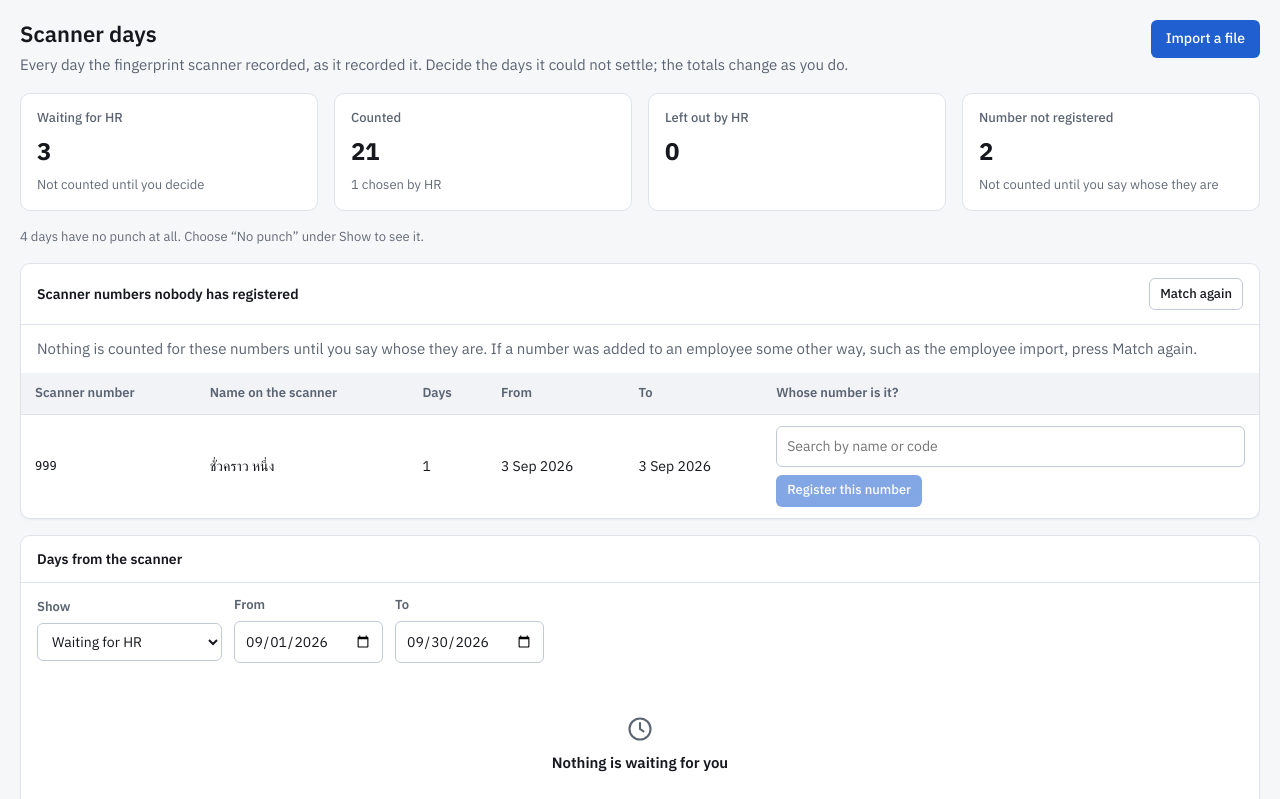
Test: Reviewing the scanner’s days (CW-061) › a refusal from the server, in the language of the screen (CW-096) › keeps the English sentence on the English screen
Type "มานี" into the search field named "Find an employee for number 999". click: point(1011, 446)
box: [776, 426, 1245, 467]
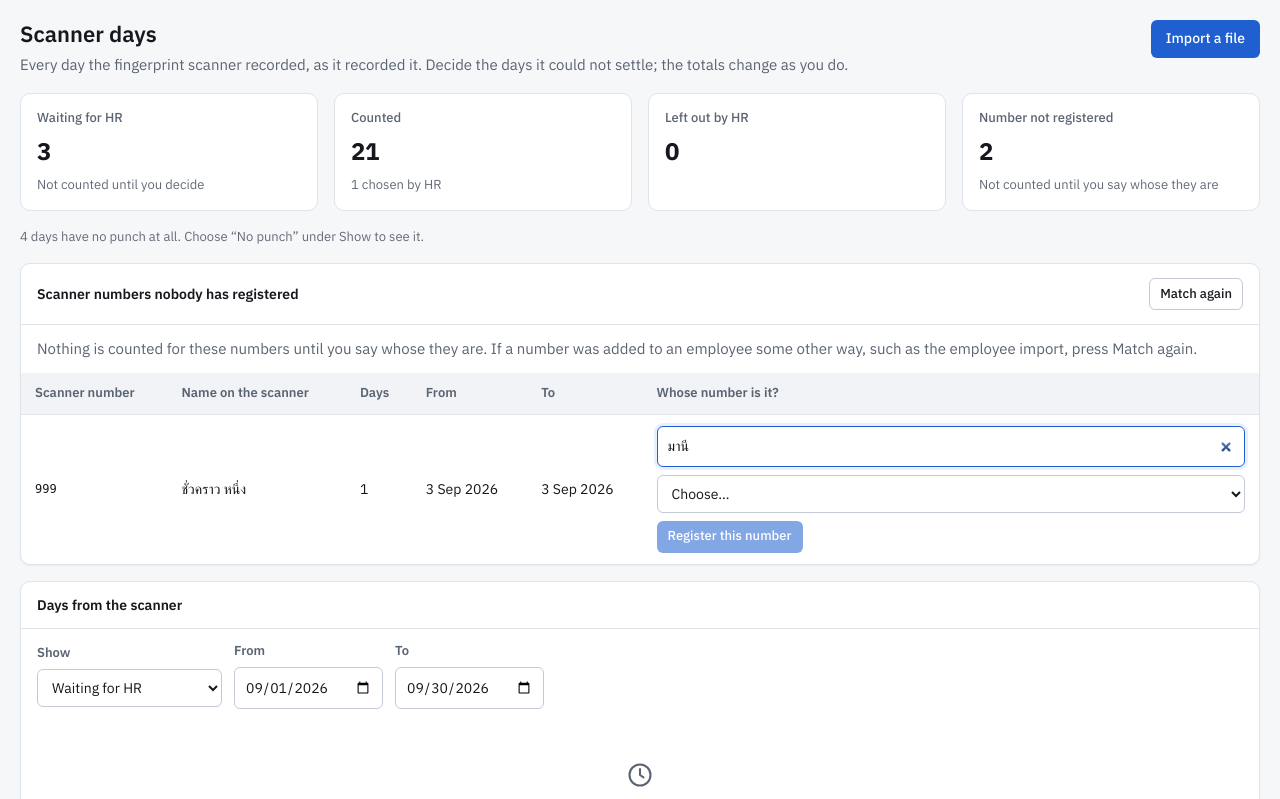
Select "EMP-0009 · มานี มีตา" in the dropdown named "Employee for number 999". click: point(951, 494)
box: [657, 475, 1245, 513]
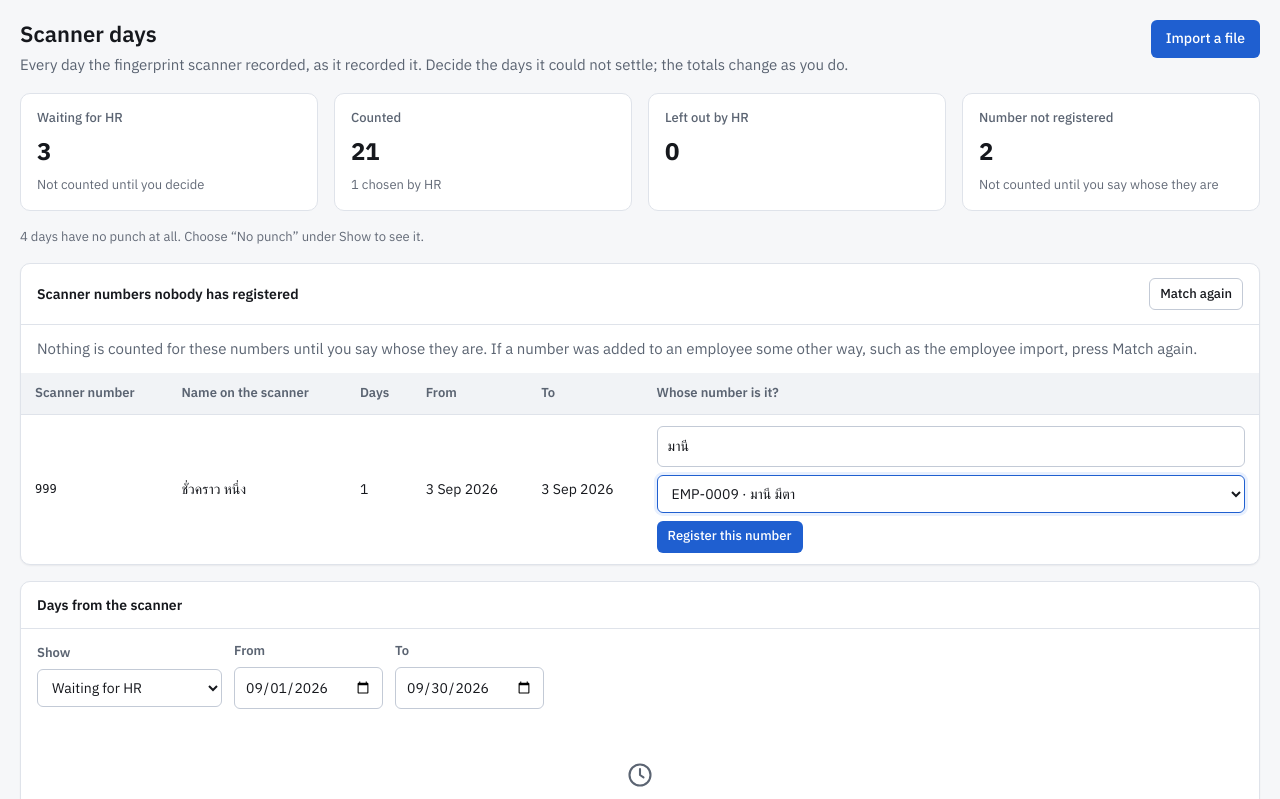
Click the button "Register this number". click: point(730, 537)
box: [657, 521, 802, 553]
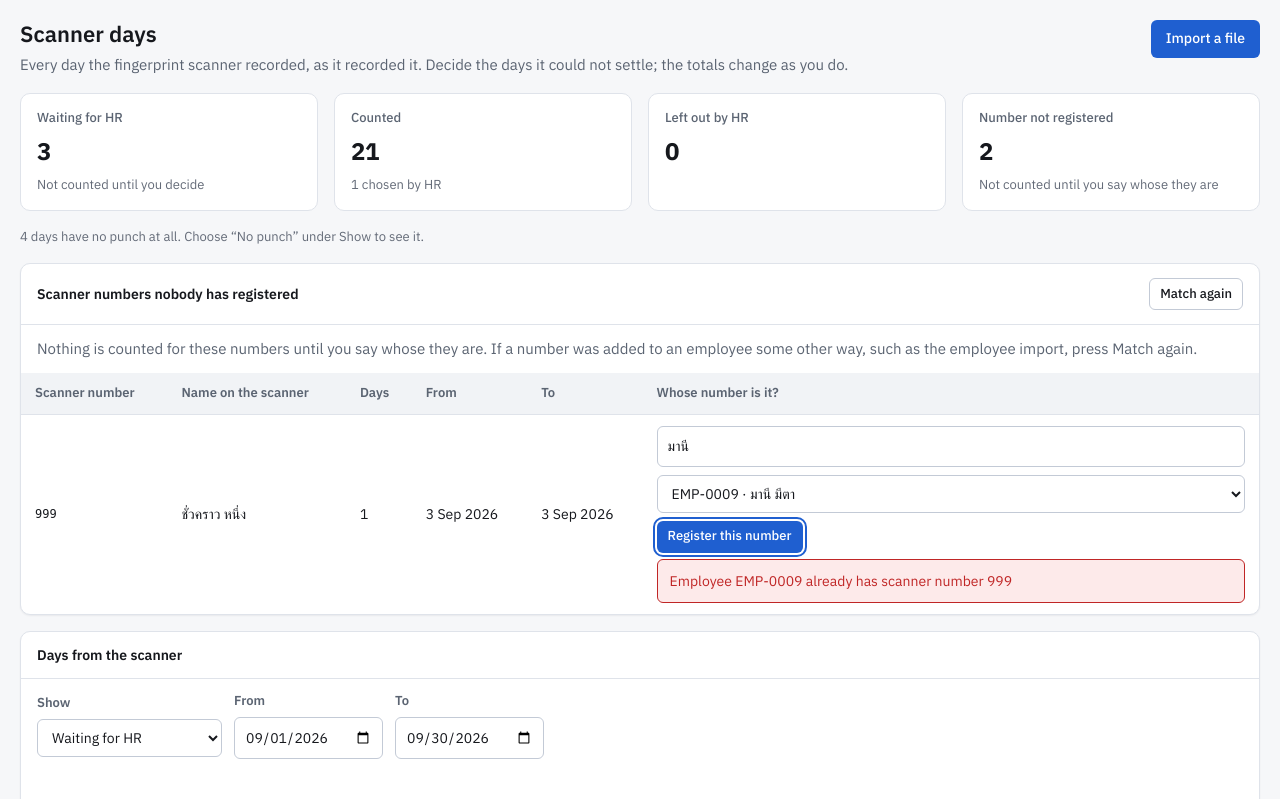
Now the text "Employee EMP-0009 already has scanner number 999" is shown, box [657, 559, 1245, 603]
